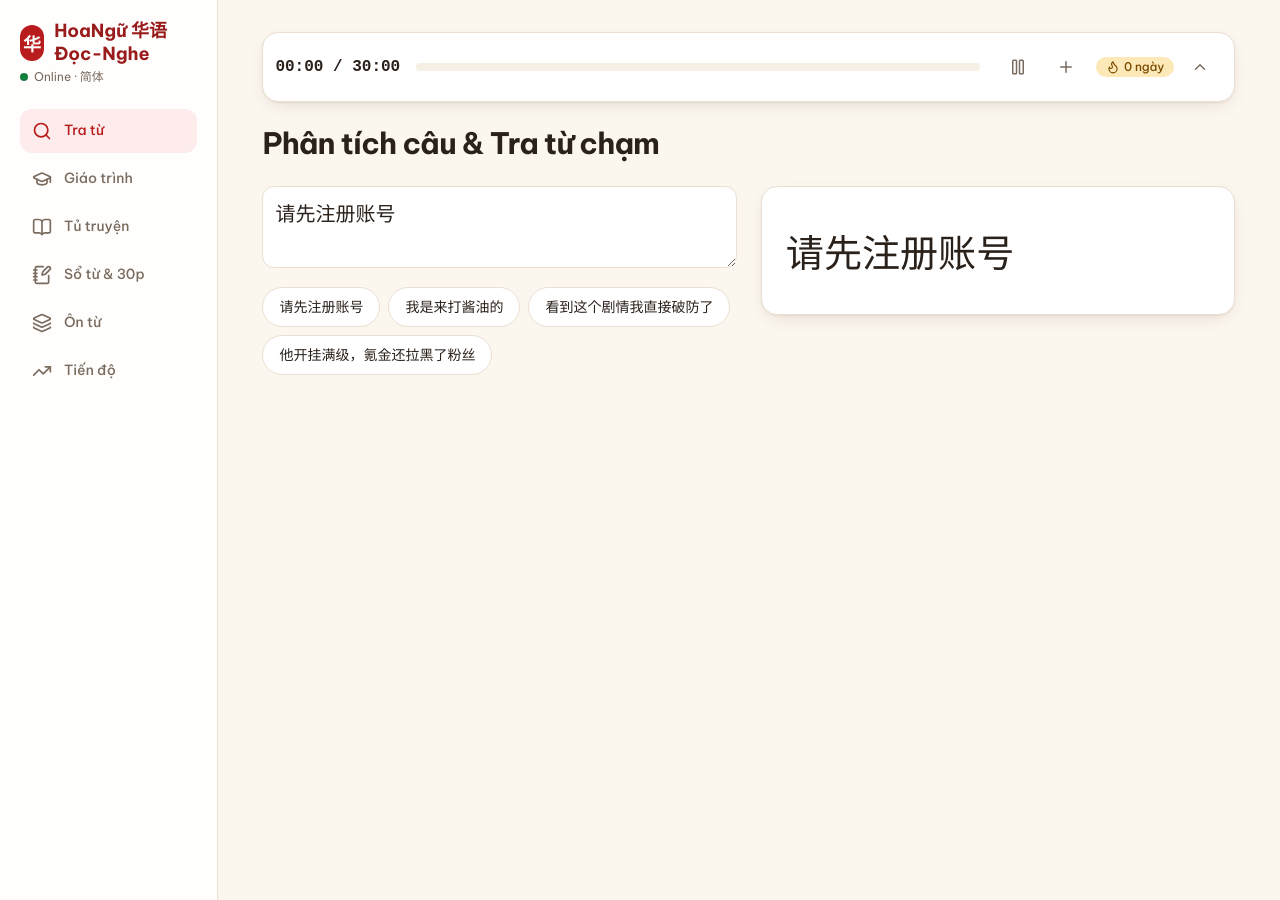
App shell › câu mẫu & nhập câu
Click the button "我是来打酱油的": (454, 307) [388,287,520,327]
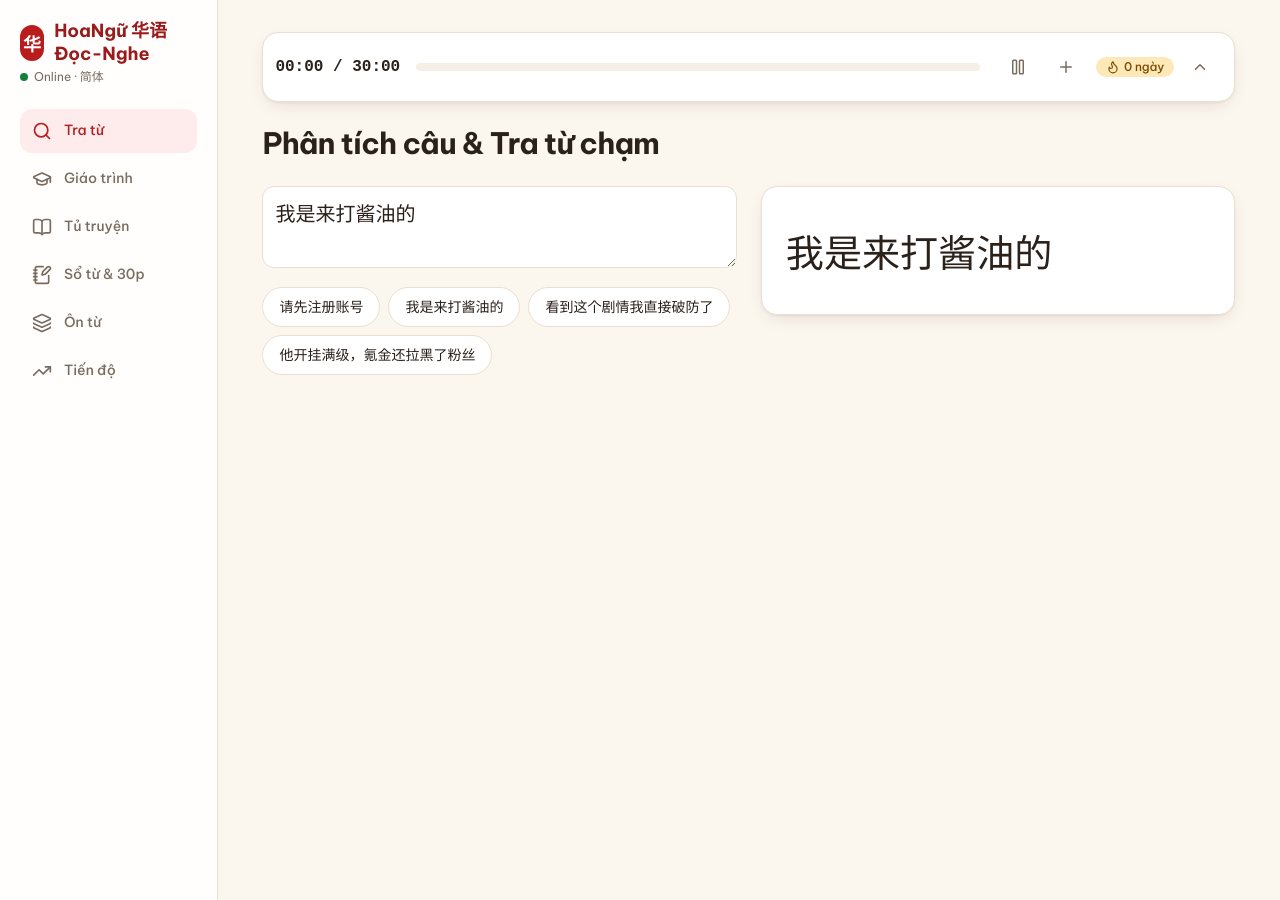
Expected: the text box named "Nhập câu tiếng Hoa" holds "我是来打酱油的"
Replace the text in the text box named "Nhập câu tiếng Hoa" with "你好": (500, 226) [262,186,737,268]
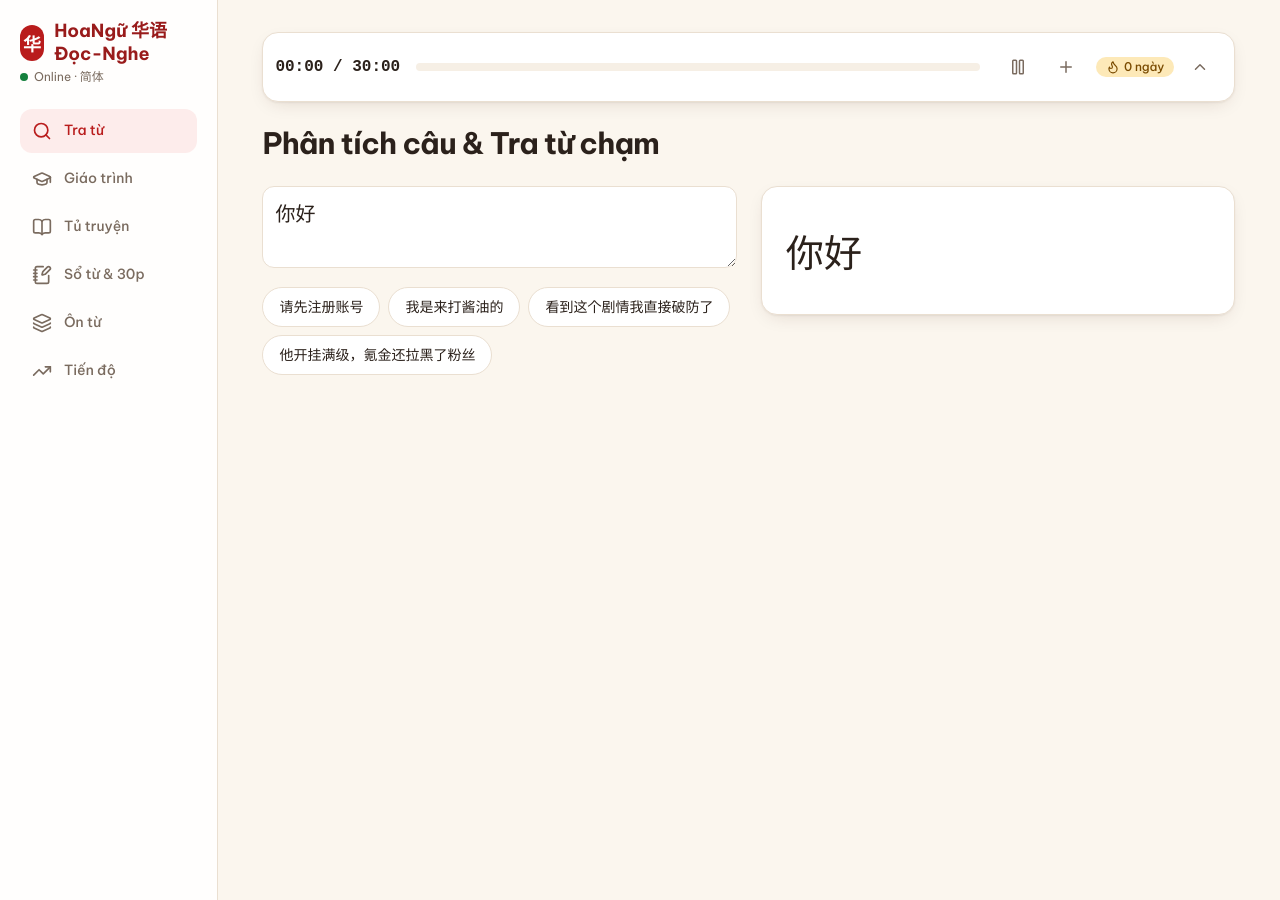
Expected: the button "好" is shown, [824,222,862,278]
